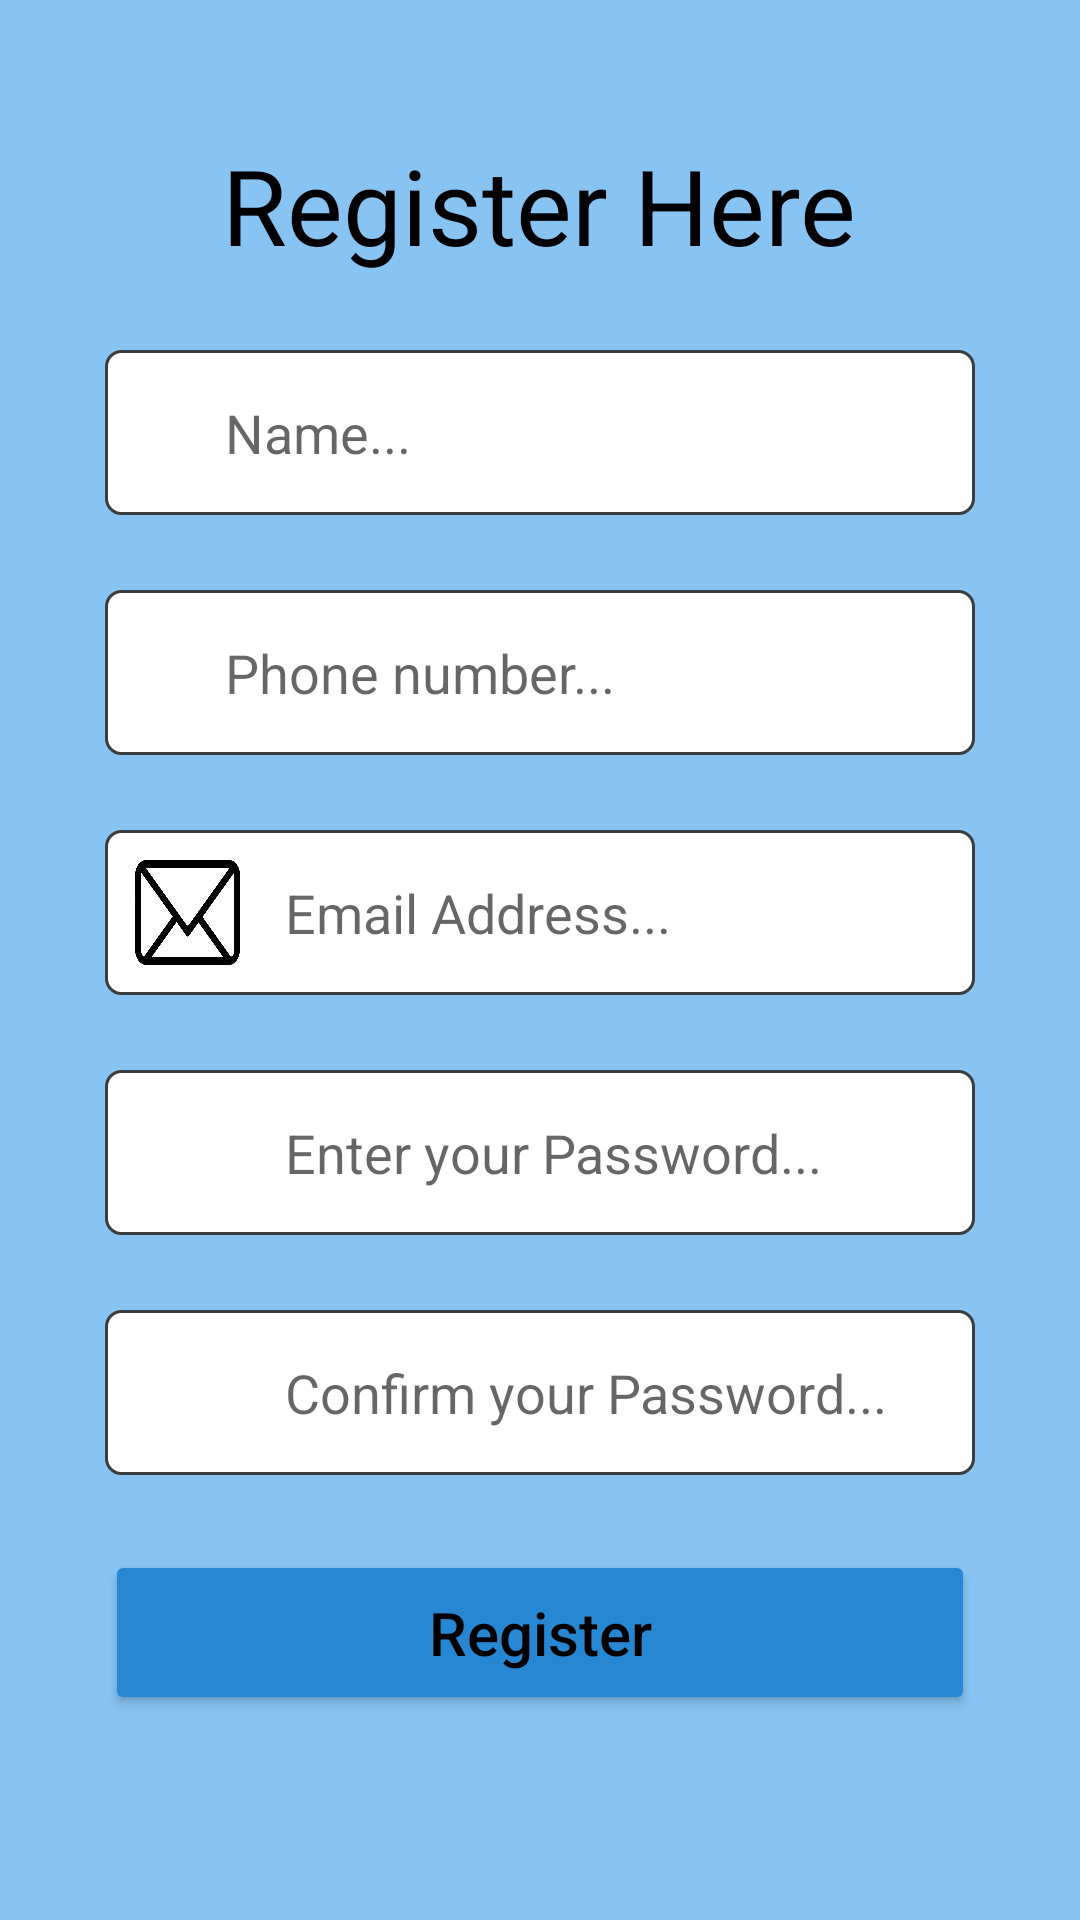

Named icons in this screenshot (1080*1920) and their centers, [x,y]:
emailsymbol: [187,912]
